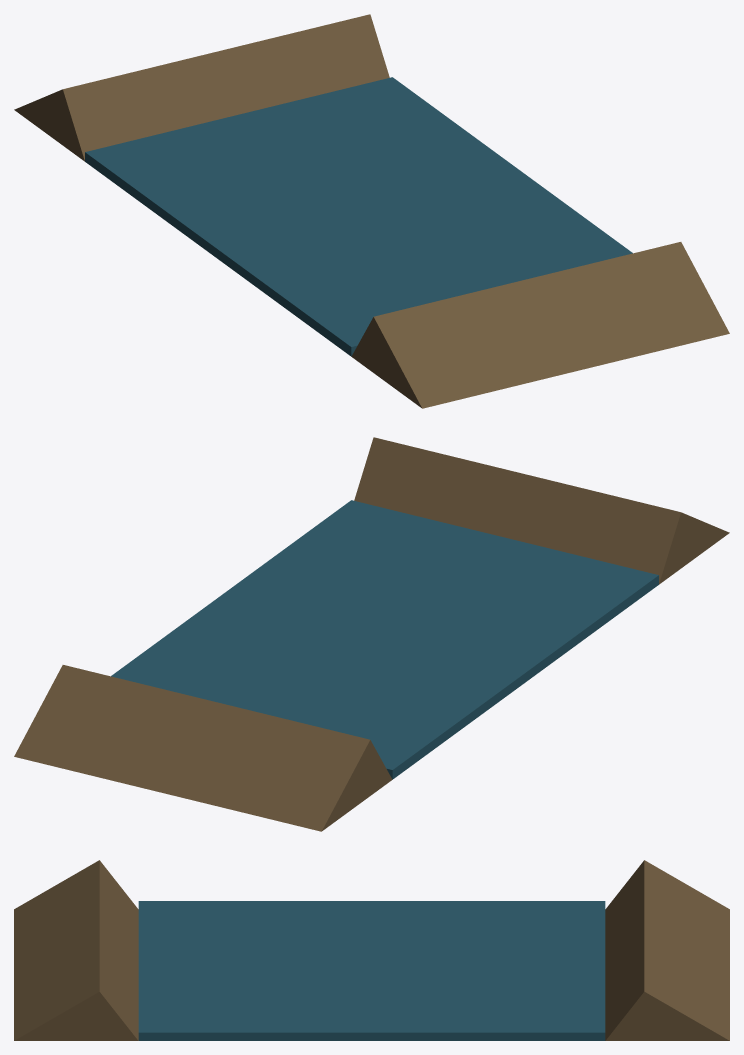
Rendered from moat.glb.
The picture shows the model from 3 angles, top to bottom: view 1: azimuth 30°, elevation 25°; view 2: azimuth 150°, elevation 25°; view 3: azimuth 270°, elevation 25°; orthographic projection. The views are drawn at different scales.
Visible parts, largest first — view 1: Moat; view 2: Moat; view 3: Moat.
Part boxes in pixels (box(x1,y1,x2,y2)): Moat: box(14, 14, 729, 408); Moat: box(14, 437, 729, 831); Moat: box(14, 860, 729, 1040).
Size of the model in its own units: 4 by 0.7 by 9.2.
